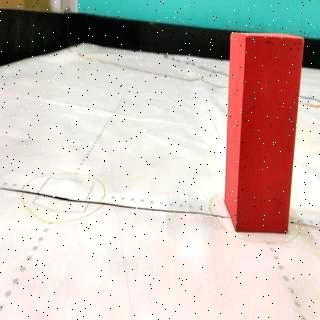redbox: (222, 31, 304, 234)
